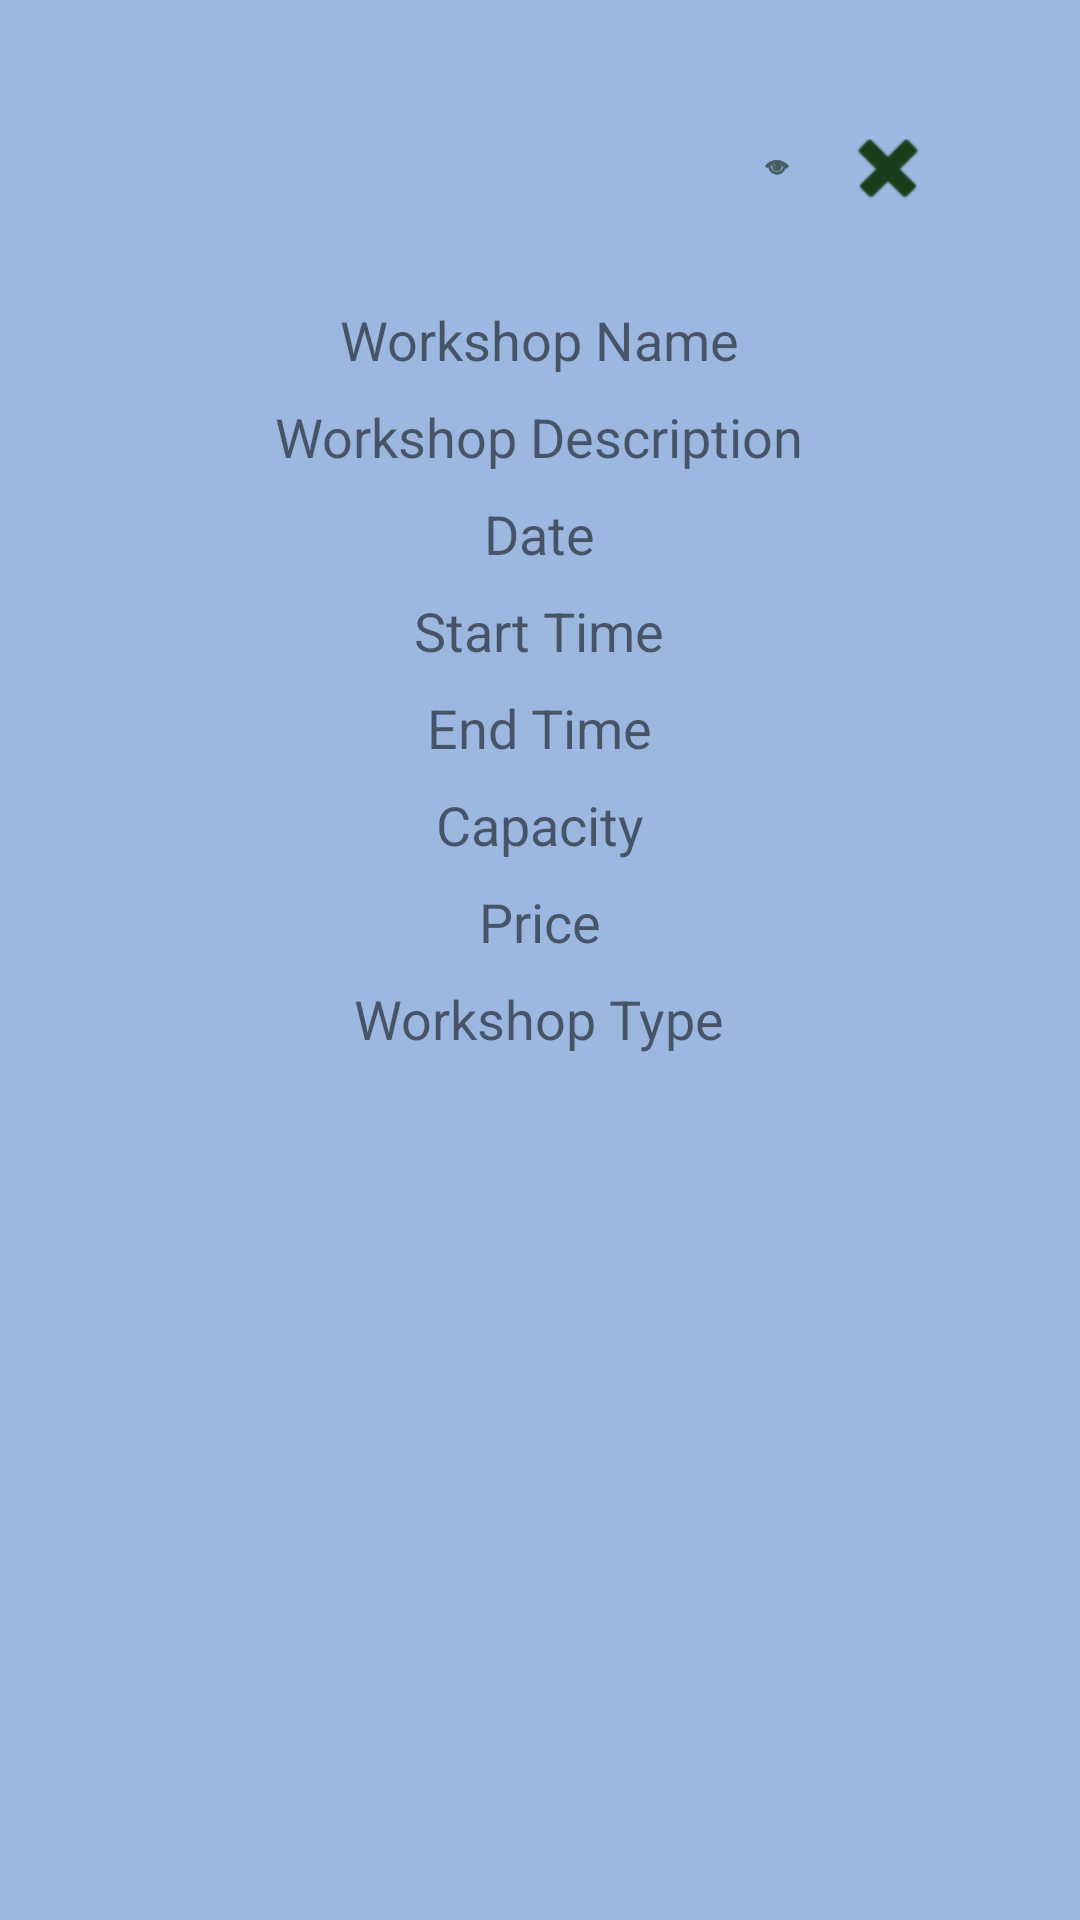

Screen size 1080×1920. Icon name, then its center in pixels as [x,y]:
delete: [888,168]
view: [777,167]
